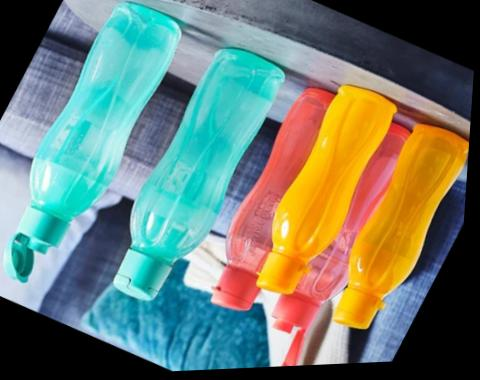plastic: (0, 0, 199, 308), (214, 86, 407, 329), (114, 49, 283, 308), (334, 124, 467, 327)
